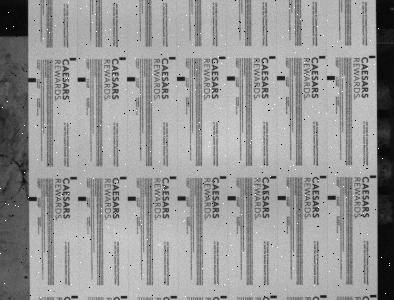qblock: (77, 77, 86, 82), (227, 76, 236, 81), (127, 77, 135, 82), (78, 196, 86, 201), (128, 196, 136, 201), (28, 78, 36, 83), (178, 196, 186, 201), (228, 196, 236, 201), (328, 195, 336, 200), (277, 76, 286, 80), (177, 77, 186, 81), (278, 196, 287, 200), (327, 76, 335, 80), (28, 197, 36, 201)
smallqblock: (169, 56, 176, 60), (70, 176, 77, 180), (369, 55, 376, 59), (220, 56, 226, 60), (120, 176, 126, 180), (320, 175, 326, 179), (270, 295, 278, 298), (270, 176, 277, 179), (170, 176, 177, 179), (220, 176, 227, 179), (71, 295, 78, 298), (171, 295, 178, 298), (221, 295, 228, 298), (121, 295, 128, 298), (119, 57, 126, 60), (319, 56, 326, 59), (70, 58, 76, 61), (270, 56, 276, 59), (371, 175, 377, 178), (321, 295, 327, 298), (371, 294, 377, 297)
